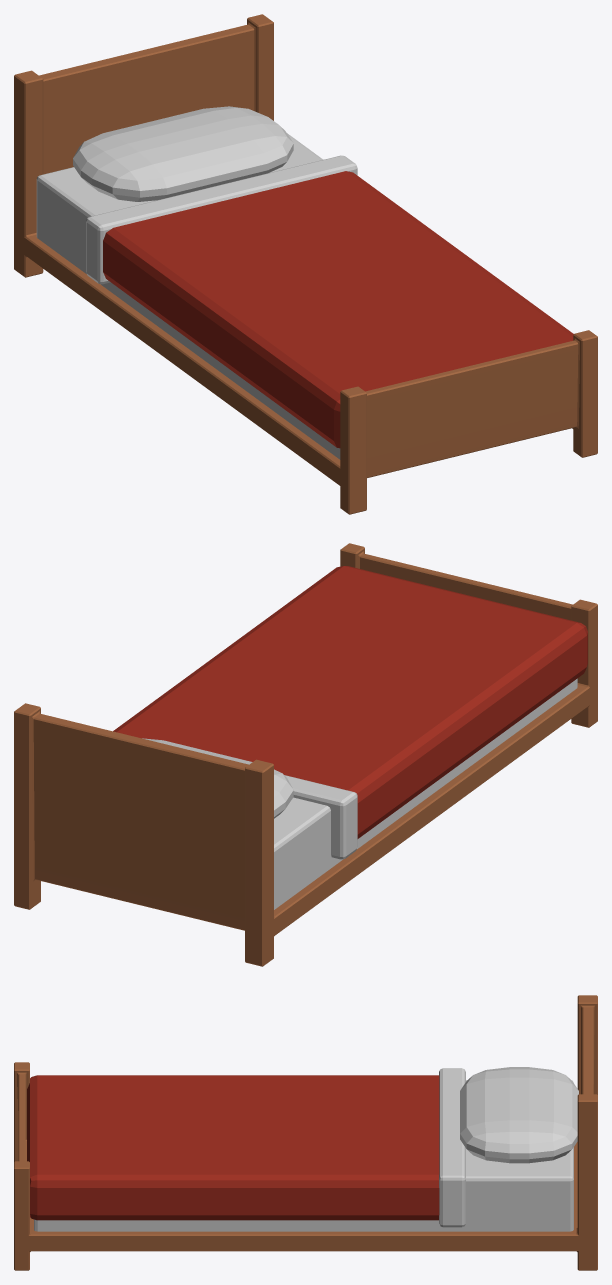
Rendered from bed.gltf.
3 renders of one model, top to bottom at view 1: azimuth 30°, elevation 25°; view 2: azimuth 150°, elevation 25°; view 3: azimuth 270°, elevation 25°, orthographic. The views are drawn at different scales.
Parts seen in each view (by area): view 1: Bed single; view 2: Bed single; view 3: Bed single.
Boxes of the visible parts, x1=… form: Bed single: x1=14, y1=14, x2=597, y2=514; Bed single: x1=14, y1=543, x2=597, y2=966; Bed single: x1=14, y1=995, x2=597, y2=1270.
Size of the model in its own units: 4.96 by 3.57 by 11.1.
